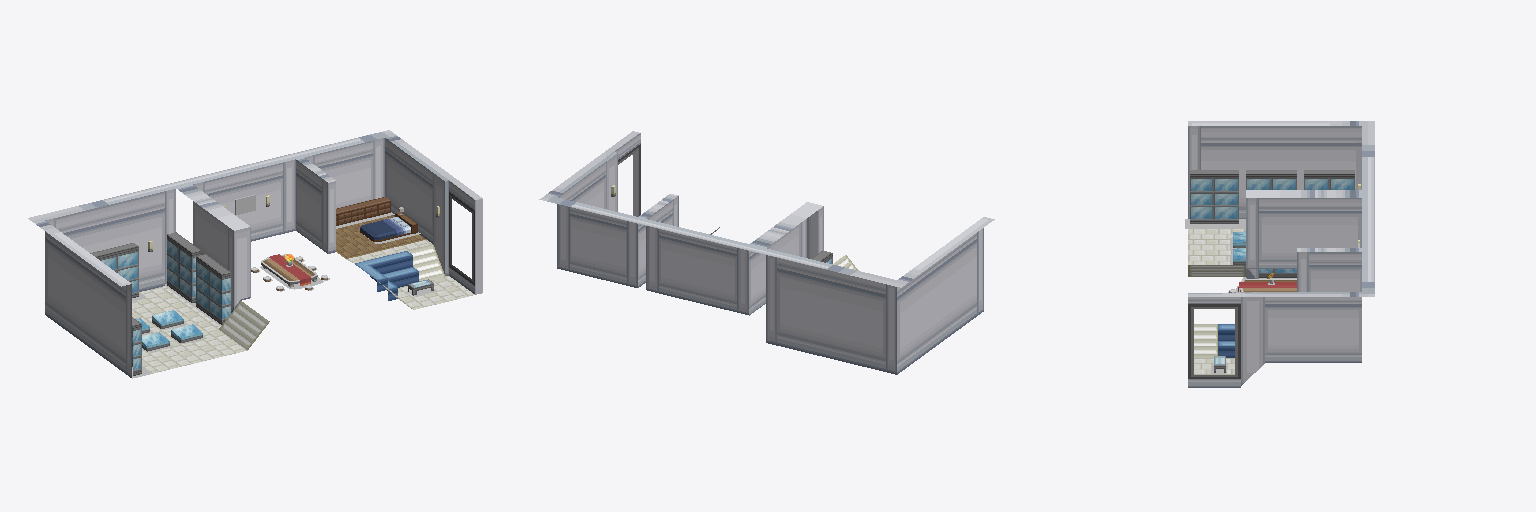
The picture shows the model from 3 angles: view 1: azimuth 30°, elevation 25°; view 2: azimuth 150°, elevation 25°; view 3: azimuth 270°, elevation 25°; orthographic projection.
Parts seen in each view (by area): view 1: polygon6, polygon0, polygon19, polygon5, polygon9, polygon1, polygon16, polygon14, polygon13, polygon18, polygon15, polygon7; view 2: polygon6; view 3: polygon6, polygon19, polygon0, polygon5, polygon7, polygon14, polygon9.
Boxes of the visible parts, x1=… form: polygon6: x1=28, y1=130, x2=482, y2=377; polygon0: x1=132, y1=240, x2=474, y2=378; polygon19: x1=90, y1=232, x2=230, y2=375; polygon5: x1=219, y1=244, x2=444, y2=349; polygon9: x1=355, y1=251, x2=418, y2=300; polygon1: x1=336, y1=215, x2=426, y2=258; polygon16: x1=136, y1=310, x2=202, y2=351; polygon14: x1=132, y1=212, x2=436, y2=377; polygon13: x1=360, y1=212, x2=417, y2=241; polygon18: x1=336, y1=197, x2=390, y2=225; polygon15: x1=261, y1=254, x2=317, y2=287; polygon7: x1=449, y1=192, x2=474, y2=285; polygon6: x1=539, y1=131, x2=994, y2=374; polygon6: x1=1188, y1=121, x2=1374, y2=387; polygon19: x1=1190, y1=170, x2=1354, y2=277; polygon0: x1=1188, y1=229, x2=1245, y2=374; polygon5: x1=1188, y1=265, x2=1245, y2=357; polygon7: x1=1188, y1=304, x2=1240, y2=378; polygon14: x1=1185, y1=219, x2=1295, y2=373; polygon9: x1=1218, y1=324, x2=1234, y2=357.
Size of the model in its own units: 8.12 by 2.04 by 3.7.
23 materials, 19 textured.